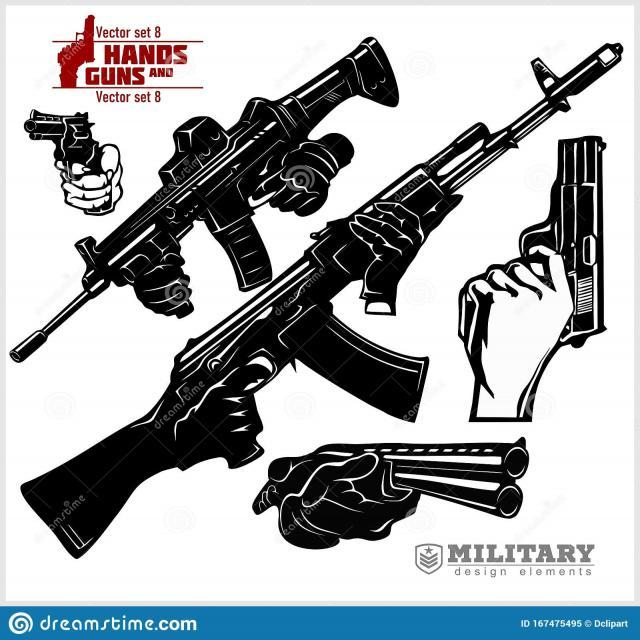weapon: (456, 128, 613, 354), (21, 100, 112, 194)
